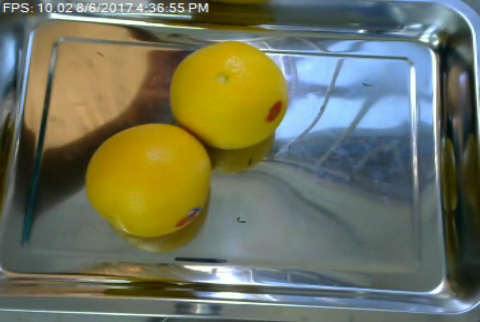Orange: (85, 124, 213, 238), (169, 41, 290, 149)
